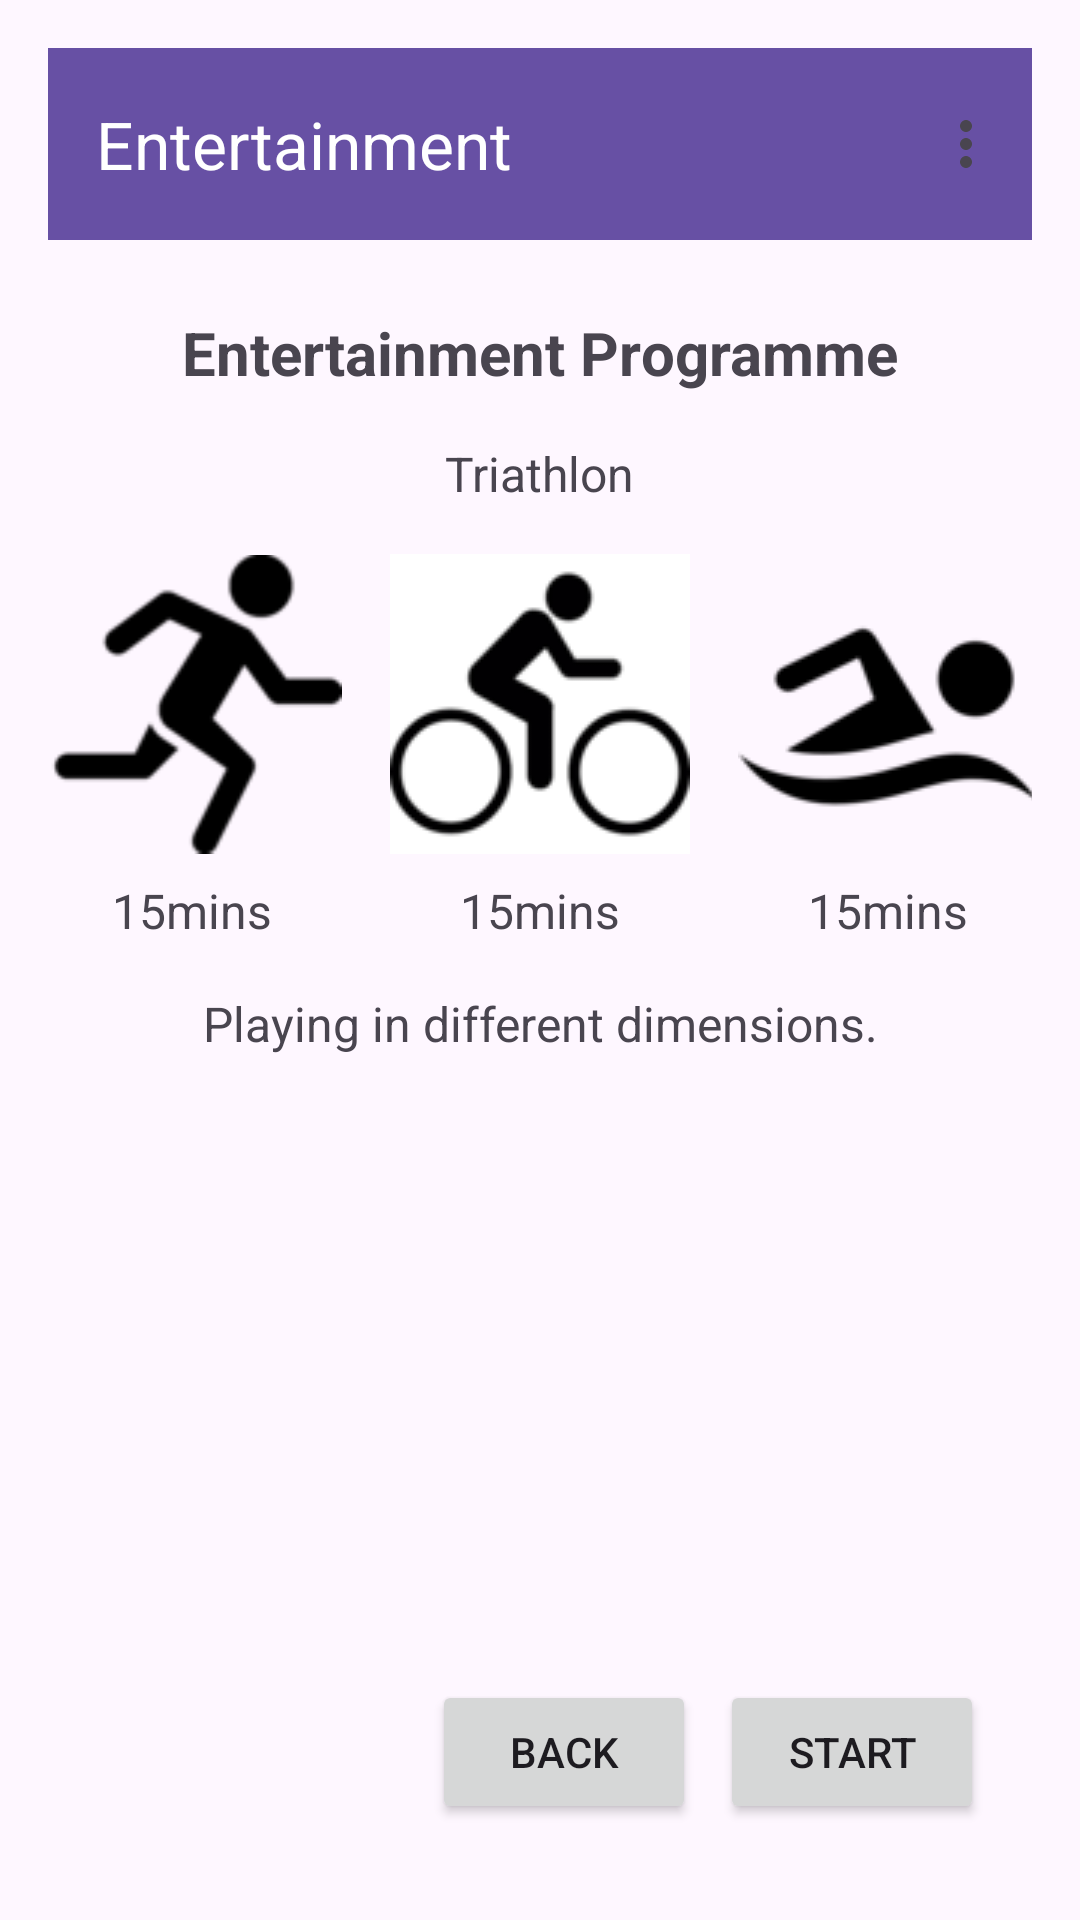

Named icons in this screenshot (1080px×1920px) and their centers, [x,y]:
cycling: [540,704]
running: [198,704]
swimming: [885,717]
